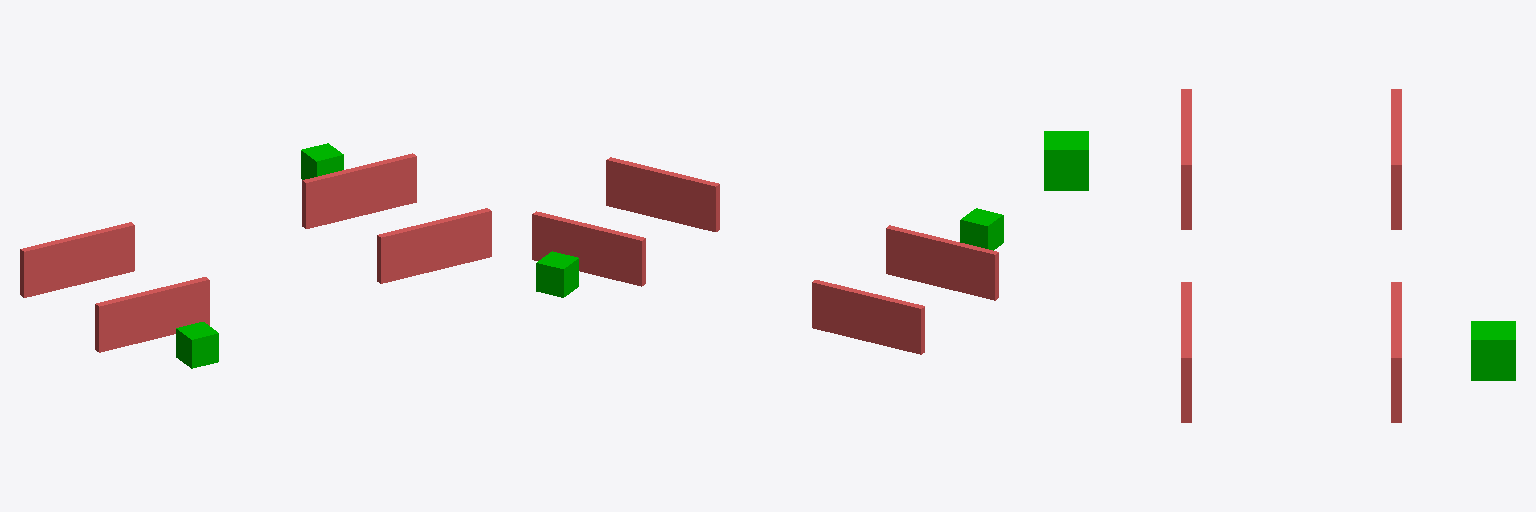
The robot description file, URDF, robot "maze3":
<?xml version="1.0"?>
  <robot name="maze3">
    <link name="base_link"/>

    <link name="table">
      <visual>
        <geometry>
          <mesh filename="file://[local-path]/Desktop/blenderFLEX/table_maze3.dae" scale = " 0.750 0.750 0.750"/>
        </geometry>
        <origin rpy="0 0 0" xyz="0 0 0" />

<material name = "">
          <color rgba="0.87450980392 0.87450980392 0.87058823529 1.0"/>
      </material>

      </visual>
      <collision>
        <geometry>
          <mesh filename="file://[local-path]/Desktop/blenderFLEX/table_maze3.dae" scale = " 0.750 0.750 0.750"/>
        </geometry>
        <origin rpy="0 0 0" xyz="0 0 0" />       
       </collision>
    </link>

    <link name="link_0">
      <visual>
        <geometry>
          <box size="0.1 0.1 0.1"/>
        </geometry>
        <origin rpy="0 0 0" xyz="0 0 0" />
      <material name = "">
          <color rgba="0.0 0.8 0.0 1.0"/>
      </material>
      </visual>
      <collision>
        <geometry>
          <box size="0.1 0.1 0.1"/>
        </geometry>
        <origin rpy="0 0 0" xyz="0 0 0" />       
       </collision>
    </link>


    <link name="cube_goal">
      <visual>
        <geometry>
          <box size="0.1 0.1 0.1"/>
        </geometry>
        <origin rpy="0 0 0" xyz="0 0 0" />
      <material name = "">
          <color rgba="0.0 0.8 0.0 0.4"/>
      </material>
      </visual>
    </link>


<link name ="cube_x"/>


     <link name="link_1">
      <visual>
        <geometry>
          <box size="0.40 0.025 0.16"/>
        </geometry>
        <origin rpy="0 0 0" xyz="0.0 0.0 0" />
        <material name = "">
          <color rgba="0.91372549019 0.39215686274 0.39215686274 1.0"/>
        </material>
      </visual>
      <collision>
        <geometry>
          <box size="0.40 0.025 0.16"/>
        </geometry>
        <origin rpy="0 0 0" xyz="0.0 0.0 0" />
        </collision>
    </link>

     <link name="link_2">
      <visual>
        <geometry>
          <box size="0.40 0.025 0.16"/>
        </geometry>
        <origin rpy="0 0 0" xyz="0.0 0.0 0" />
        <material name = "">
          <color rgba="0.91372549019 0.39215686274 0.39215686274 1.0"/>
        </material>
      </visual>
      <collision>
        <geometry>
          <box size="0.40 0.025 0.16"/>
        </geometry>
        <origin rpy="0 0 0" xyz="0.0 0.0 0" />
        </collision>
    </link>

     <link name="link_3">
      <visual>
        <geometry>
          <box size="0.40 0.025 0.16"/>
        </geometry>
        <origin rpy="0 0 0" xyz="0.0 0.0 0" />
        <material name = "">
          <color rgba="0.91372549019 0.39215686274 0.39215686274 1.0"/>
        </material>
      </visual>
      <collision>
        <geometry>
          <box size="0.40 0.025 0.16"/>
        </geometry>
        <origin rpy="0 0 0" xyz="0.0 0.0 0" />
        </collision>
    </link>

         <link name="link_4">
      <visual>
        <geometry>
          <box size="0.40 0.025 0.16"/>
        </geometry>
        <origin rpy="0 0 0" xyz="0.0 0.0 0" />
        <material name = "">
          <color rgba="0.91372549019 0.39215686274 0.39215686274 1.0"/>
        </material>
      </visual>
      <collision>
        <geometry>
          <box size="0.40 0.025 0.16"/>
        </geometry>
        <origin rpy="0 0 0" xyz="0.0 0.0 0" />
        </collision>
    </link>


<joint name="table_j" type="fixed">
    <origin rpy="0 0 0" xyz="0.9 -0.4 0.73" />
    <parent link="base_link" />
    <child link="table" />
    <axis xyz="0 1 0" />
  </joint>

<joint name="goal" type="fixed">
    <origin rpy="0 0 0" xyz="1.40 0.05 0.86" />
    <parent link="base_link" />
    <child link="cube_goal" />
</joint>

<joint name="link_0_joint_0" type="prismatic">
    <origin rpy="0 0 0" xyz="0.40 -0.9 0.86" />
    <parent link="base_link" />
    <child link="cube_x" />
   <axis xyz="1 0 0" />
  <limit lower="-0.17" upper="1.18" effort="0.05" velocity="1.57"/>
  </joint>


<joint name="link_0_joint_1" type="prismatic">
    <origin rpy="0 0 0" xyz="0.0 0 0.0" />
    <parent link="cube_x" />
    <child link="link_0" />
   <axis xyz="0 1 0" />
  <limit lower="-0.1" upper="1.11" effort="0.05" velocity="1.57"/>
  </joint>


    <joint name="link_1_joint_0" type="prismatic">
        <origin rpy="0 0 0" xyz="0.39 -0.634 0.86"/>
        <parent link="base_link"/>
        <child link="link_1"/>
        <axis xyz="1 0 0"/>
        <limit lower="0" upper="1.02" effort="5" velocity="1.57"/>
    </joint>

 <joint name="link_2_joint_0" type="prismatic">
    <origin rpy="0 0 0" xyz="0.39 -0.166 0.86"/>
        <parent link="base_link"/>
        <child link="link_2"/>
        <axis xyz="1 0 0"/>
        <limit lower="0" upper="1.02" effort="5" velocity="1.57"/>
  </joint>


    <joint name="link_3_joint_0" type="prismatic">
        <origin rpy="0 0 0" xyz="1.41 -0.634 0.86"/>
        <parent link="base_link"/>
        <child link="link_3"/>
        <axis xyz="-1 0 0"/>
        <limit lower="0" upper="1.02" effort="5" velocity="1.57"/>
    </joint>

 <joint name="link_4_joint_0" type="prismatic">
    <origin rpy="0 0 0" xyz="1.41 -0.166 0.86"/>
        <parent link="base_link"/>
        <child link="link_4"/>
        <axis xyz="-1 0 0"/>
        <limit lower="0" upper="1.02" effort="5" velocity="1.57"/>
  </joint>


</robot>

--- Facts derived from the render (not from the file) ---
3 views of the same robot in one strip: view 1: azimuth 30°, elevation 25°; view 2: azimuth 150°, elevation 25°; view 3: azimuth 270°, elevation 25° (orthographic).
Model maze3 with 9 links and 8 joints (6 prismatic, 2 fixed), rooted at base_link, posed every joint at zero.
Visible links, largest first — view 1: link_3, link_2, link_4, link_1, link_0, cube_goal; view 2: link_3, link_1, link_2, link_4, cube_goal, link_0; view 3: link_0, cube_goal, link_1, link_2, link_3, link_4.
Link boxes in pixels (<box>): link_3: <box>377,208,491,283</box>; link_2: <box>20,222,134,297</box>; link_4: <box>302,153,416,228</box>; link_1: <box>95,277,209,352</box>; link_0: <box>176,322,218,368</box>; cube_goal: <box>301,143,343,179</box>; link_3: <box>606,157,719,231</box>; link_1: <box>886,225,998,300</box>; link_2: <box>812,280,924,354</box>; link_4: <box>532,211,645,286</box>; cube_goal: <box>536,251,578,297</box>; link_0: <box>960,208,1003,250</box>; link_0: <box>1044,131,1088,190</box>; cube_goal: <box>1471,321,1515,380</box>; link_1: <box>1181,89,1191,229</box>; link_2: <box>1391,89,1401,229</box>; link_3: <box>1181,282,1191,422</box>; link_4: <box>1391,282,1401,422</box>.
Size in the robot's own frame: 1.42 by 1.05 by 0.16 metres.
Geometry: only primitive shapes (box / cylinder / sphere) drawn; not drawn: 1 mesh visual (reference in a form the renderer does not follow).